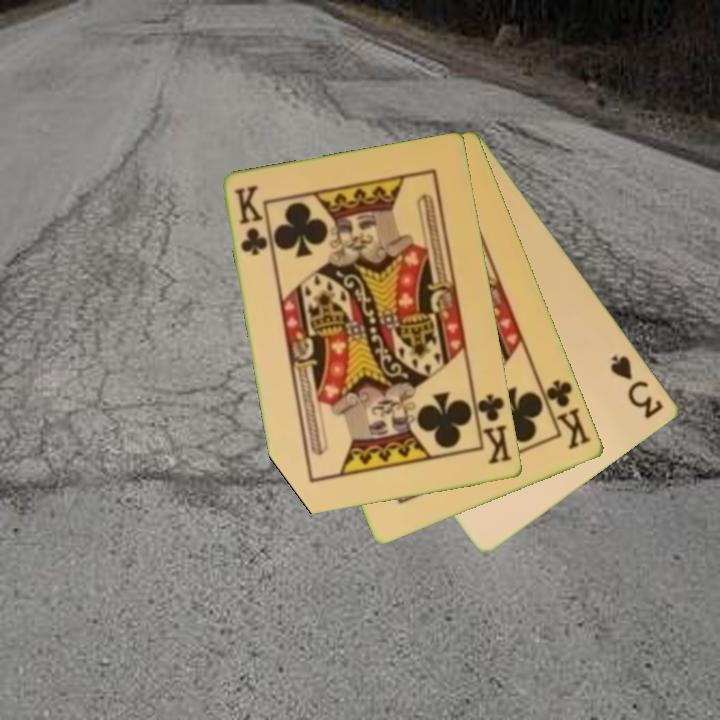3s: (607, 351, 667, 422)
Kc: (537, 376, 595, 453), (470, 390, 515, 468), (230, 182, 271, 259)
